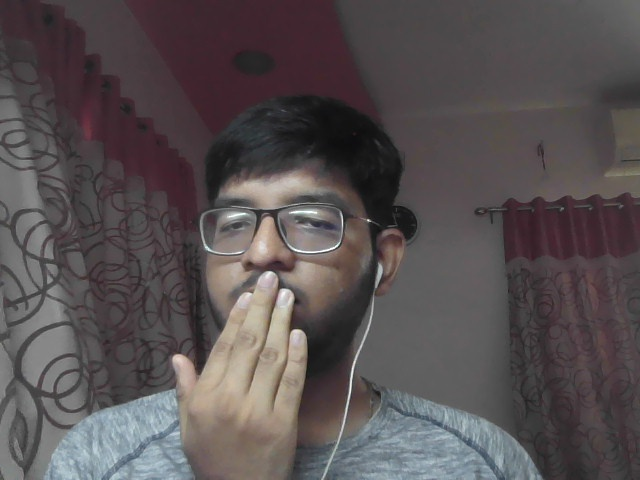આભાર: (158, 270, 316, 480)
